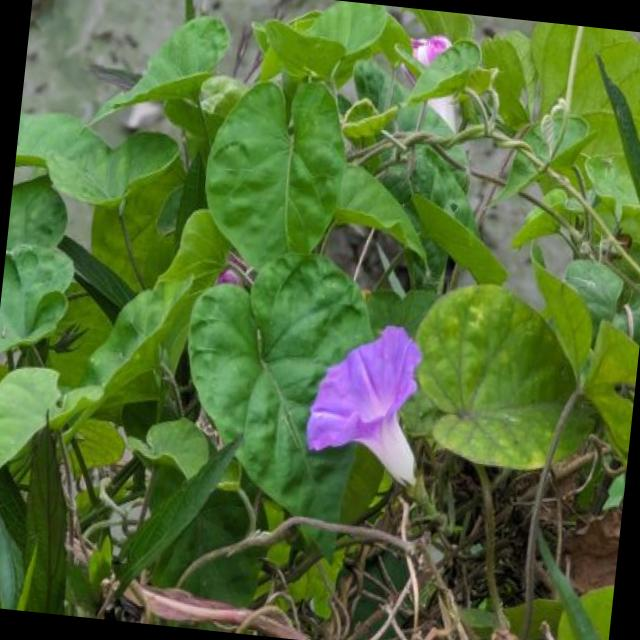ipomoea: (298, 313, 438, 495)
